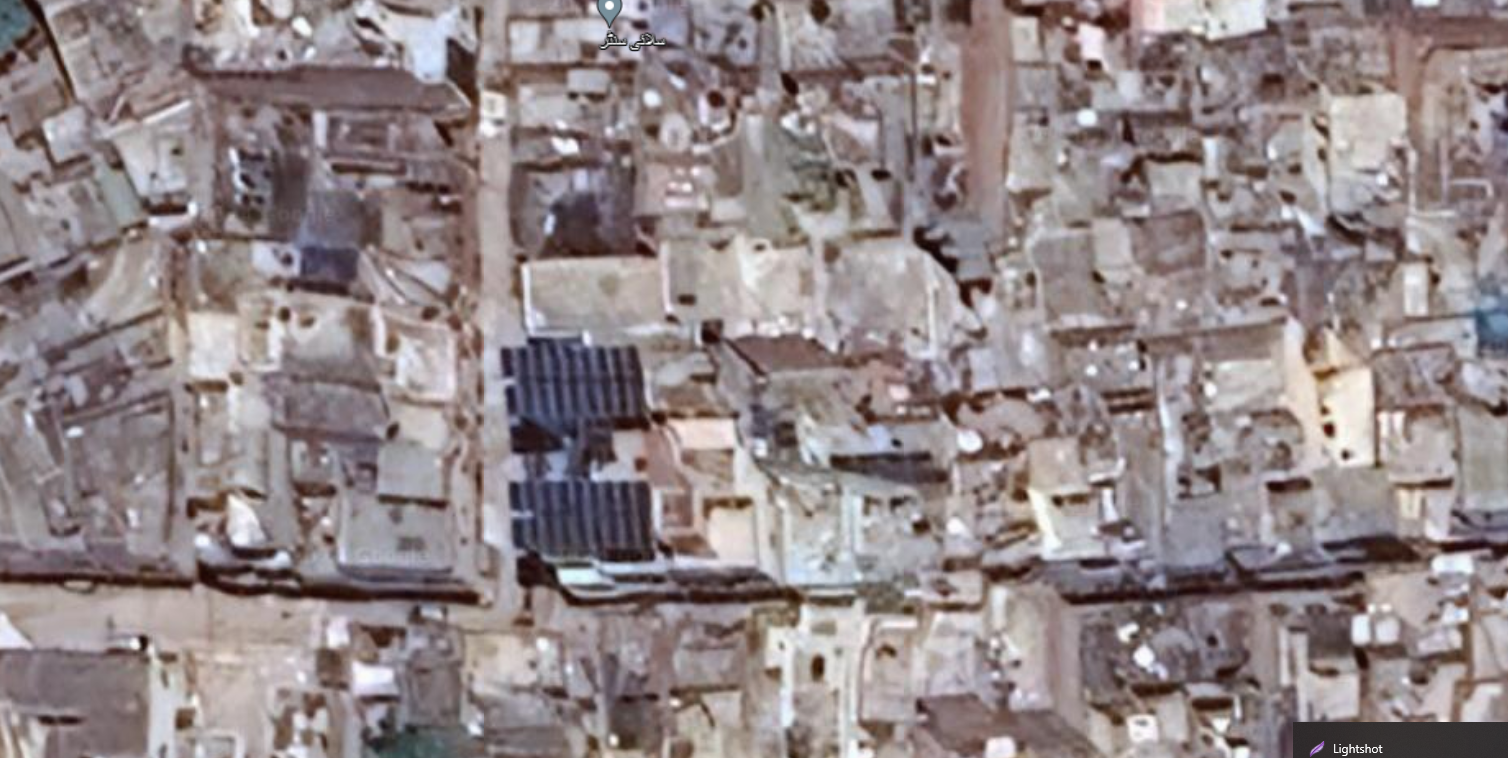solar-panel: (479, 340, 659, 566)
